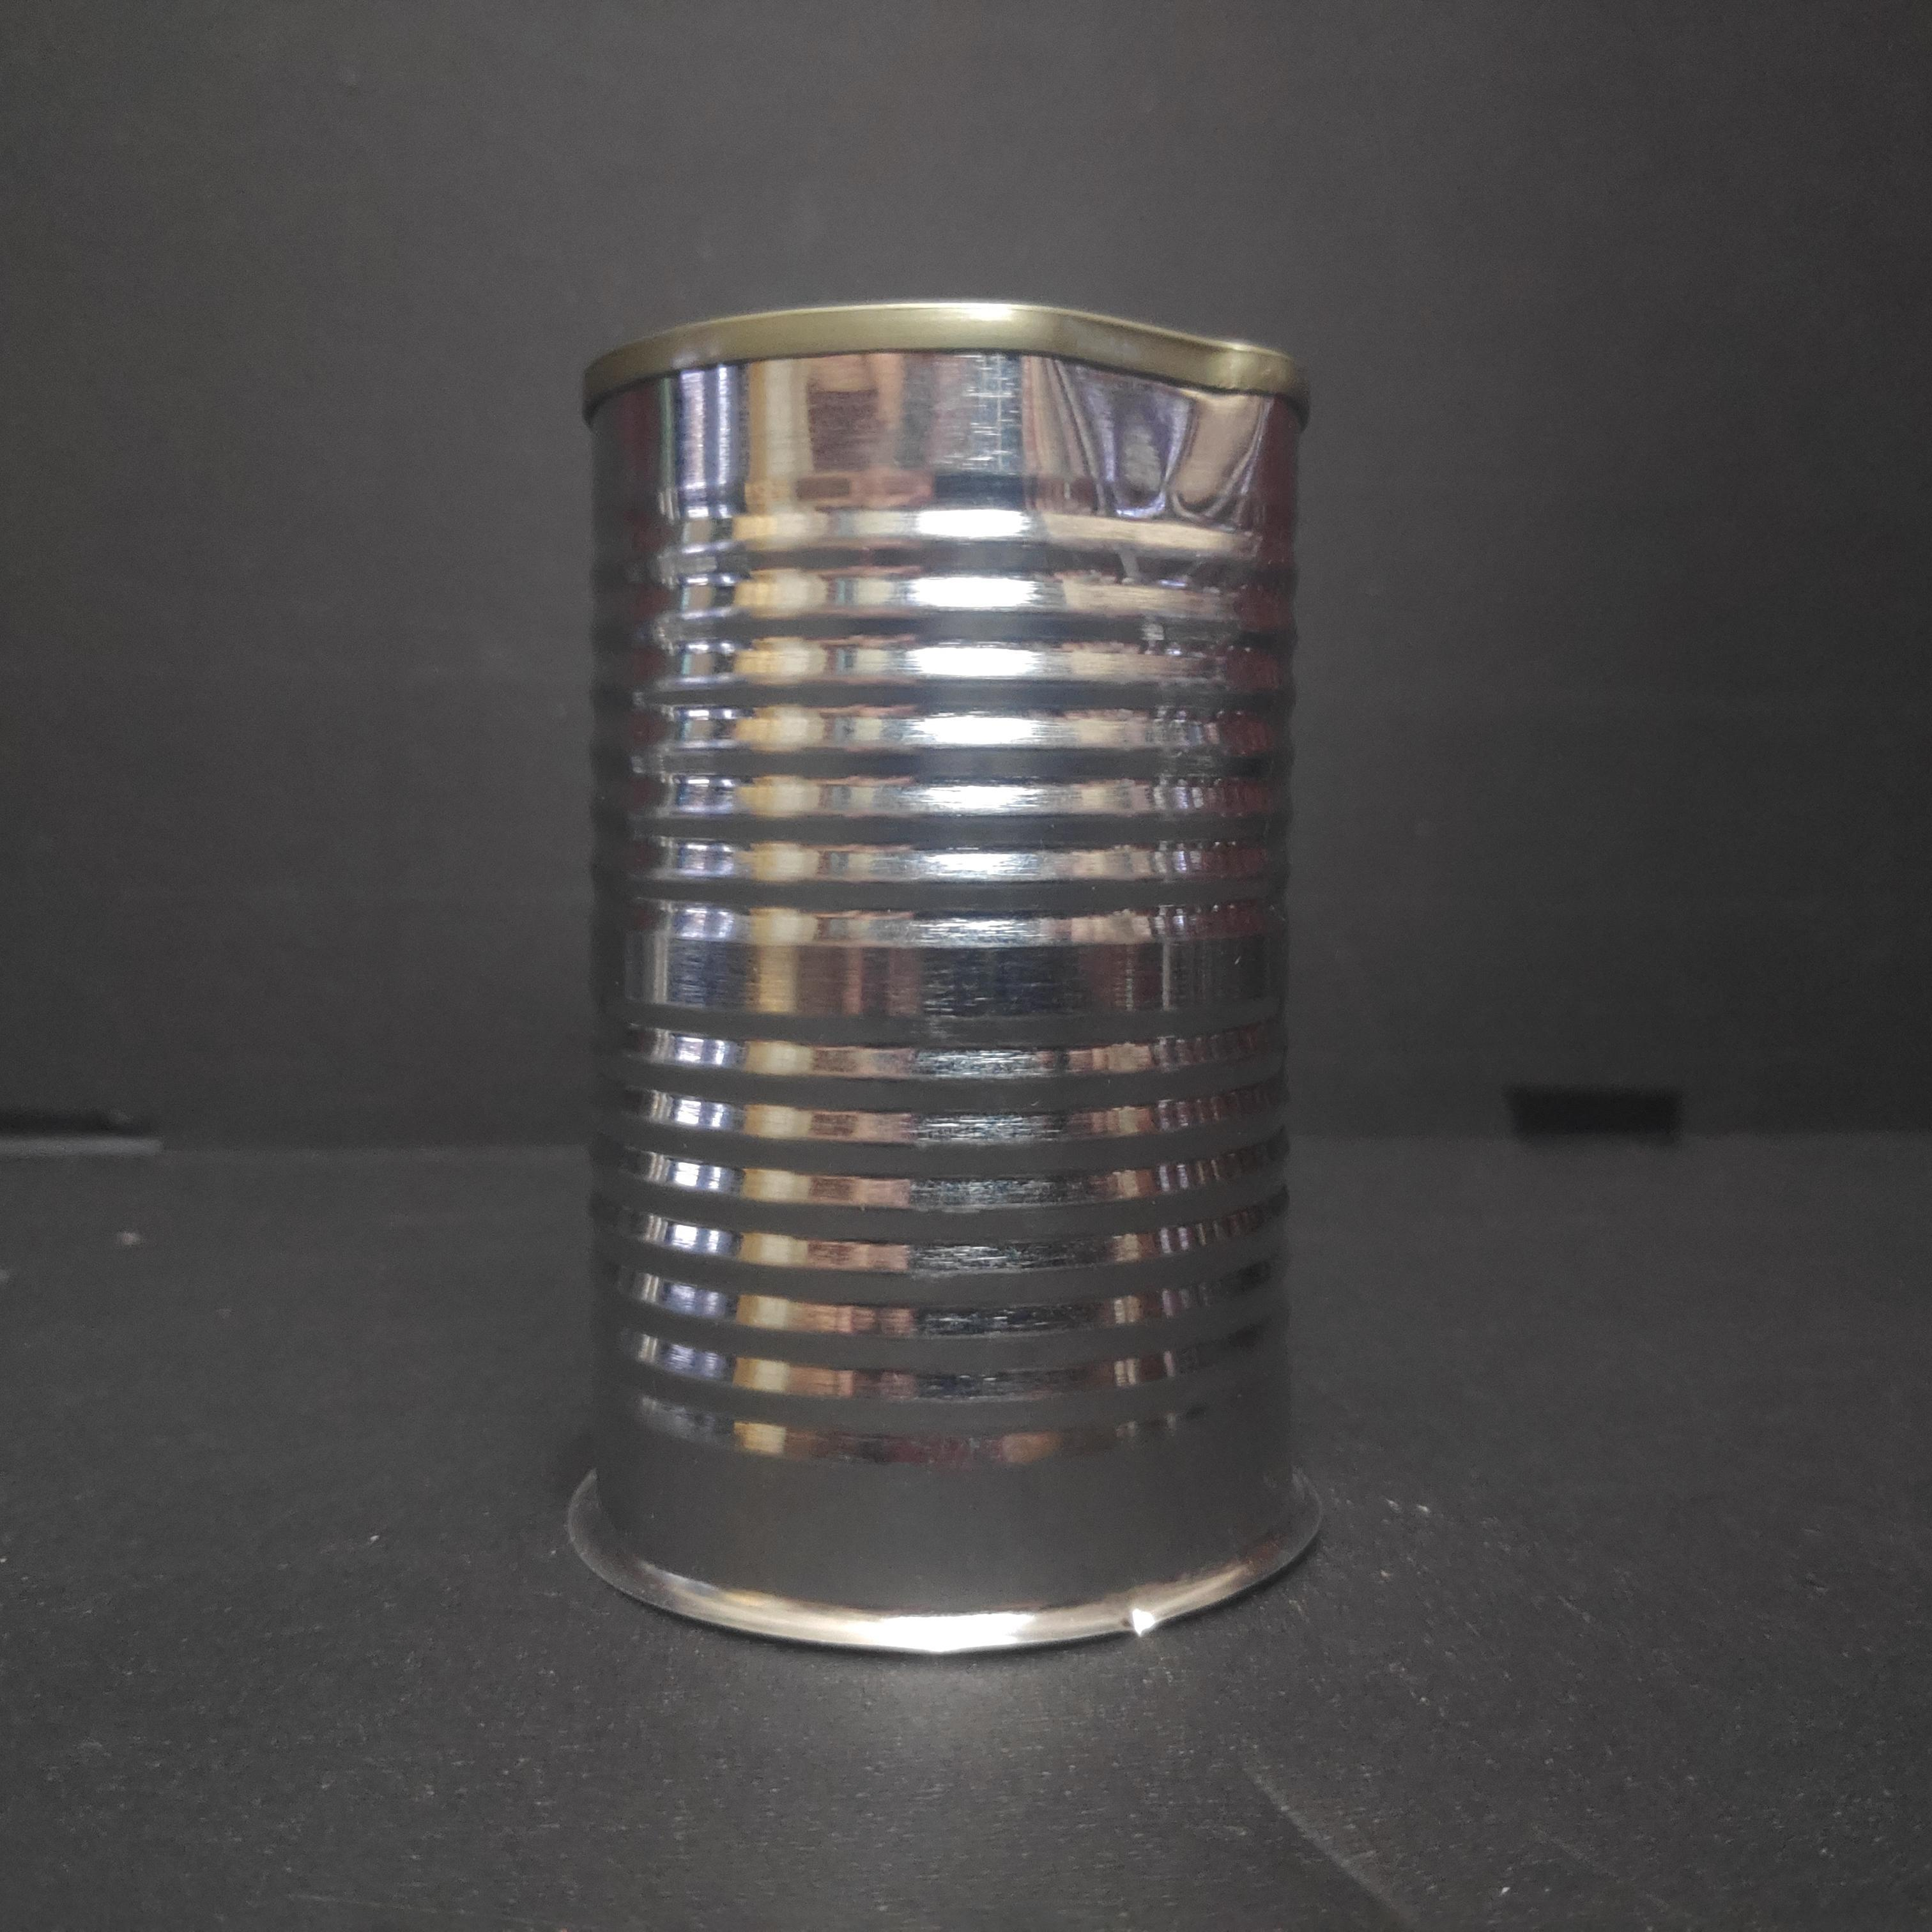Dented: (559, 281, 1348, 1697)
